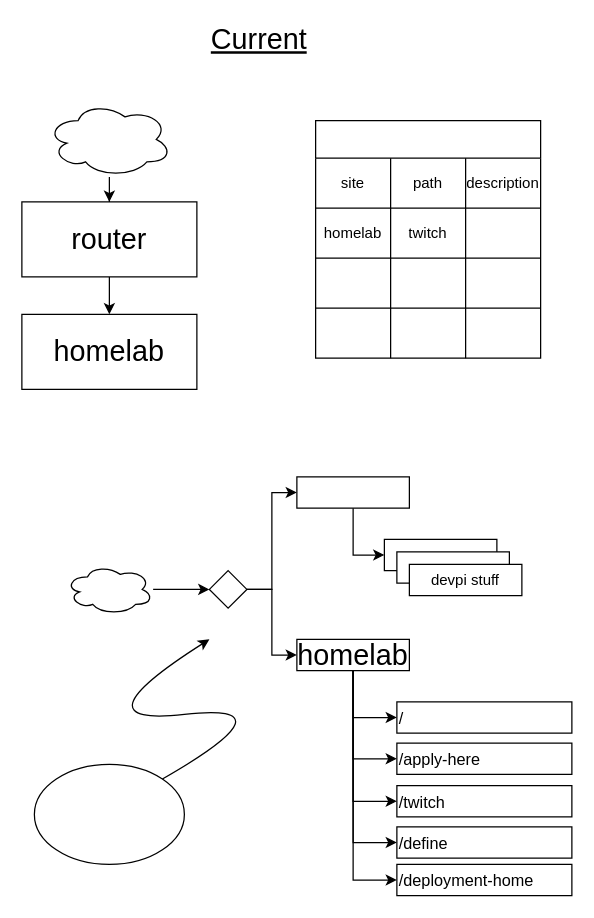
This 594x918 diagram has some shape labels left out. Each missing label, with the box of its shape:
cats and memes: (64, 563, 153, 614)
devpi: (296, 476, 409, 508)
how to integrate git into this here pattern: (33, 763, 184, 864)
memes: (46, 101, 172, 177)
Sites: (314, 119, 541, 358)
